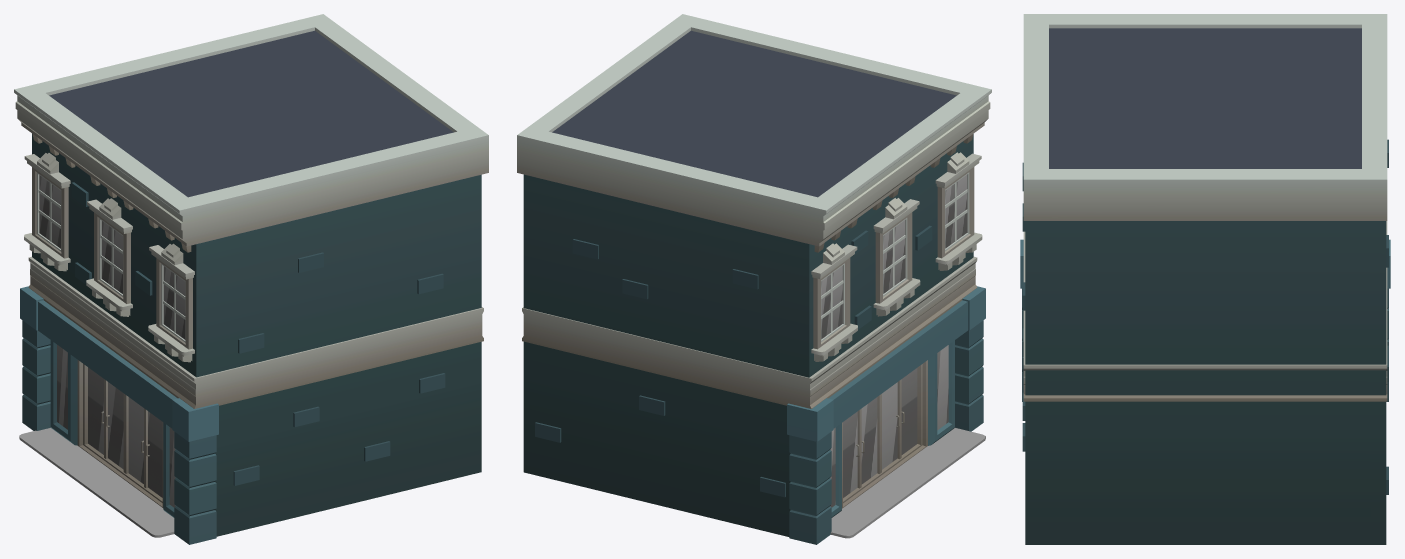
The model's file is Building_21_4_K.fbx.
The picture shows the model from 3 angles, left to right: view 1: azimuth 30°, elevation 25°; view 2: azimuth 150°, elevation 25°; view 3: azimuth 270°, elevation 25°; orthographic projection. The views are drawn at different scales.
Parts seen in each view (by area): view 1: Building_21_4_K; view 2: Building_21_4_K; view 3: Building_21_4_K.
Part boxes in pixels (bbox=[...]): Building_21_4_K: bbox=[14, 14, 488, 544]; Building_21_4_K: bbox=[517, 14, 991, 544]; Building_21_4_K: bbox=[1020, 14, 1390, 544].
Bounding box in the file's own units: 779 × 782 × 713.
